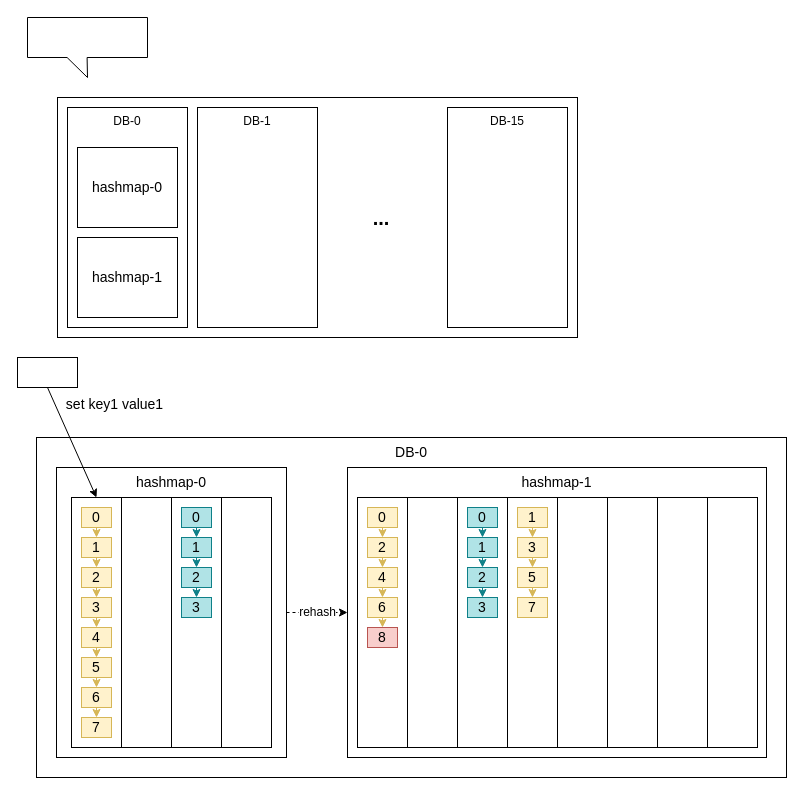
Image size: 804x795. Some labels were removed from this diagram. Here are the shapes that lost their labels. From the top down, the box of each, then its label:
(26, 16, 148, 78): Redis
(16, 356, 78, 388): client
